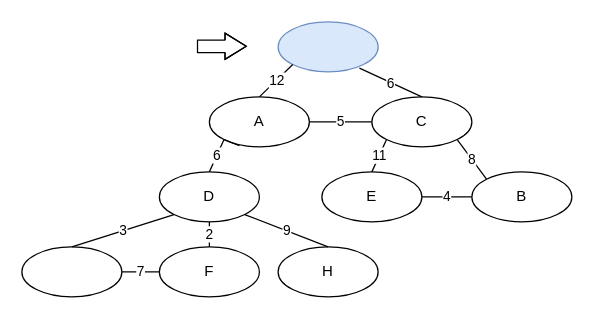
Some shapes in this 594 by 319 pixel diagram are drawn without their labels. The shapes that lost their labels are listed below. From the top down, each one's box as (x1, y1, x2, y2) in pixels, then its label:
(277, 21, 378, 72): Start
(21, 246, 122, 297): Goal
